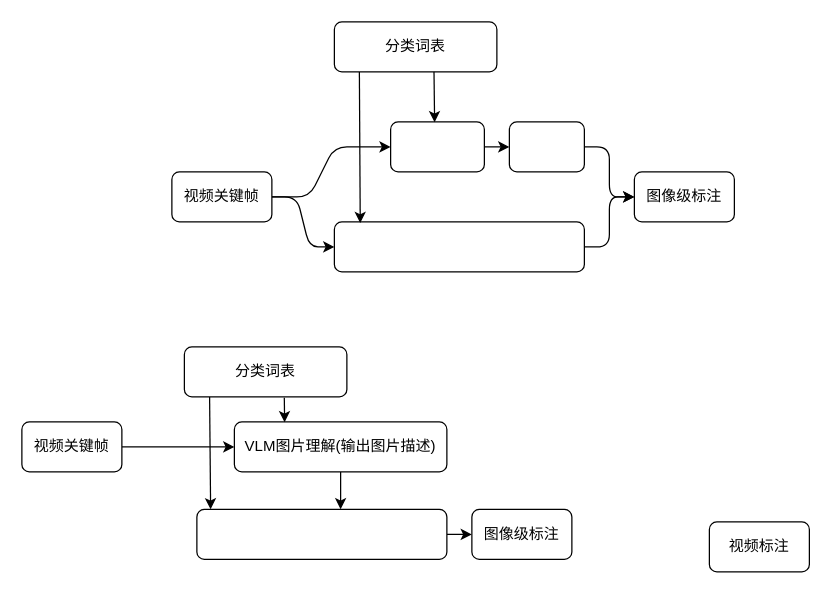
Some shapes in this 831 by 594 pixel diagram are drawn without their labels. The centre of each missing label's shape, as x and y in pixels:
CLIP: (x=436, y=146)
LLM(图片描述理解): (x=321, y=533)
VLM图片理解(直接输出结果): (x=458, y=246)
阈值判断: (x=546, y=146)
